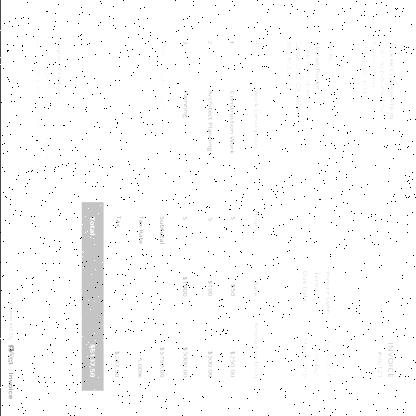Paragraph: (83, 204, 170, 384), (30, 36, 64, 192), (282, 38, 334, 119), (298, 268, 333, 383), (358, 37, 396, 123), (154, 34, 170, 150), (4, 299, 16, 403), (374, 340, 396, 382)
Table: (173, 26, 265, 390)
